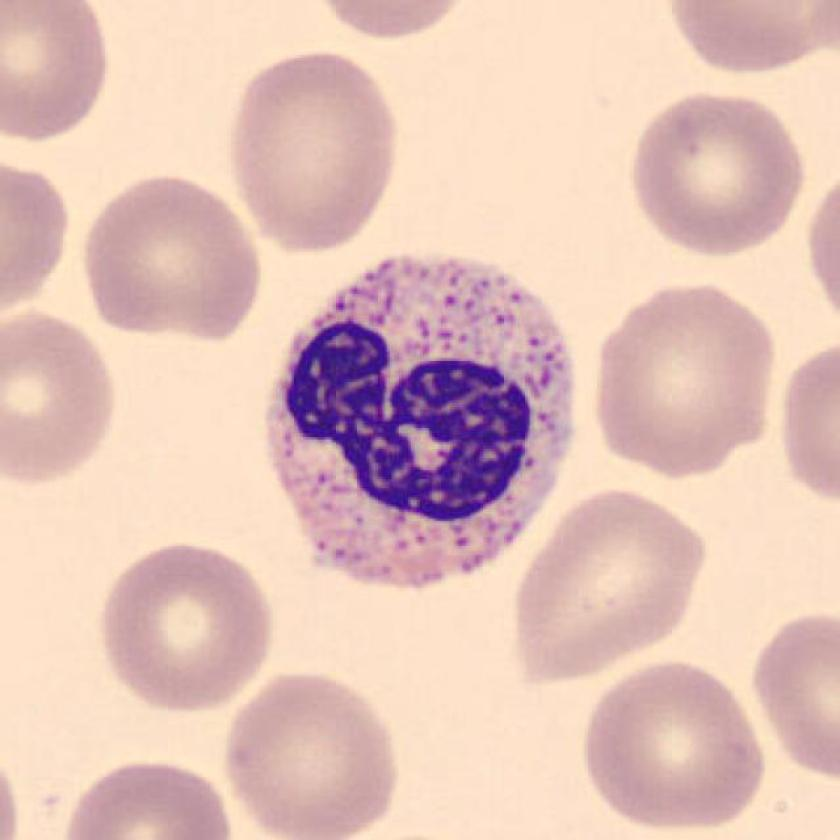neutrophil: (268, 253, 575, 586)
